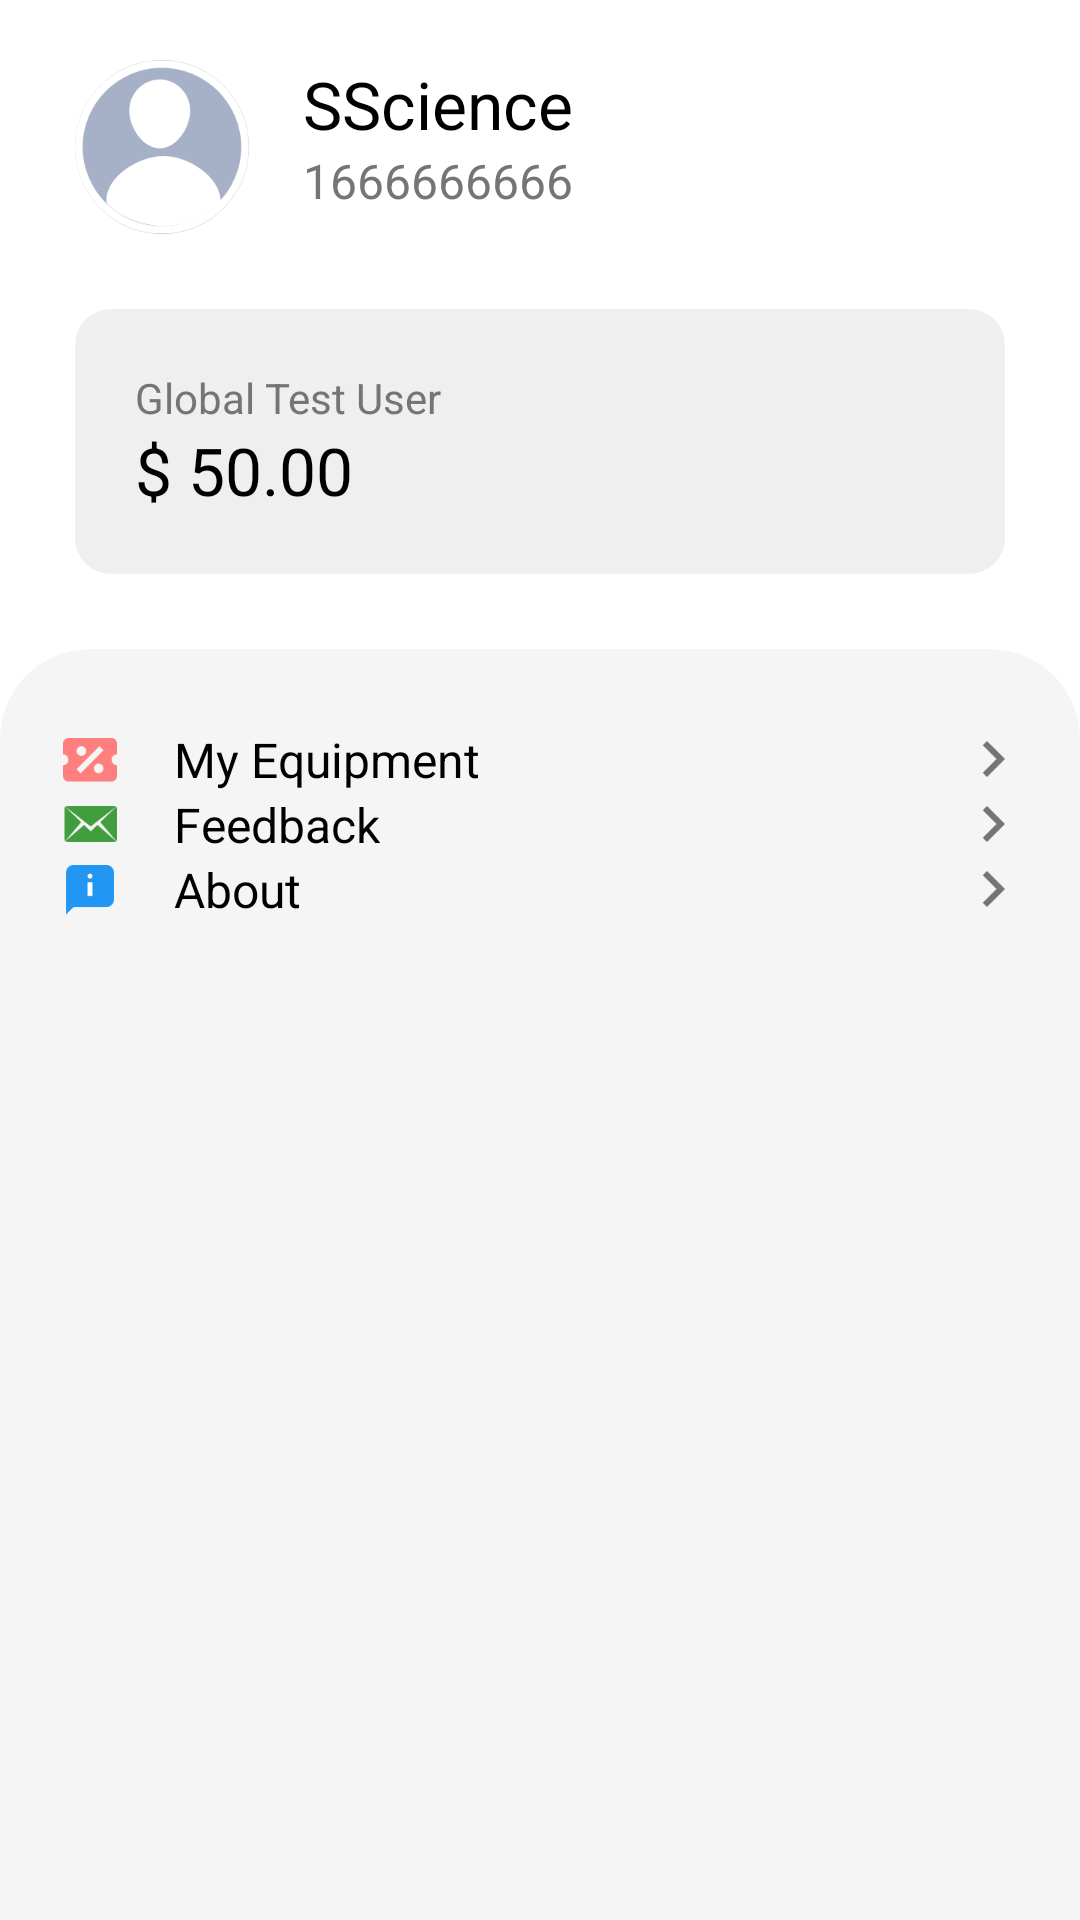

Icon click points for this 1080w x 1920h phone screenshot, format point (x, y):
arrow right: point (994, 759), point (994, 824), point (994, 889)
contact us: point (90, 824)
head: point (165, 147)
